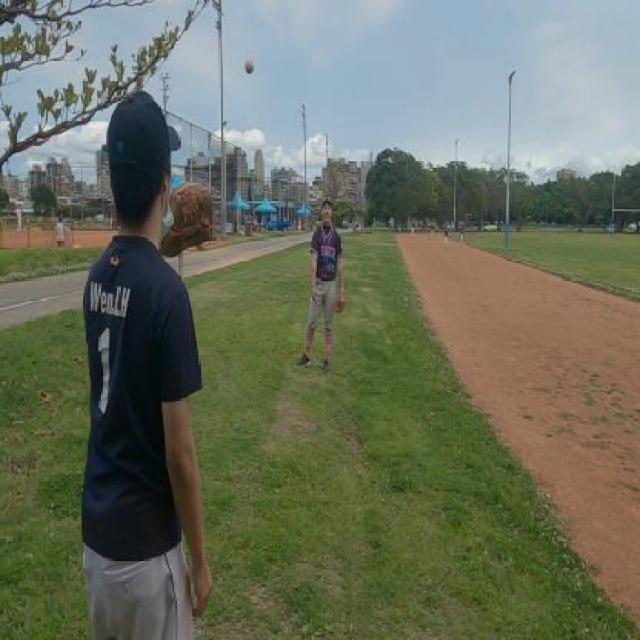baseball: (244, 58, 253, 74)
